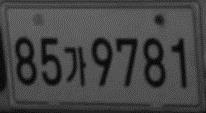1: (170, 36, 189, 89)
5: (39, 36, 62, 87)
7: (115, 36, 139, 87)
8: (13, 35, 38, 85), (142, 37, 166, 88)
9: (90, 36, 114, 87)
가: (62, 44, 87, 88)
